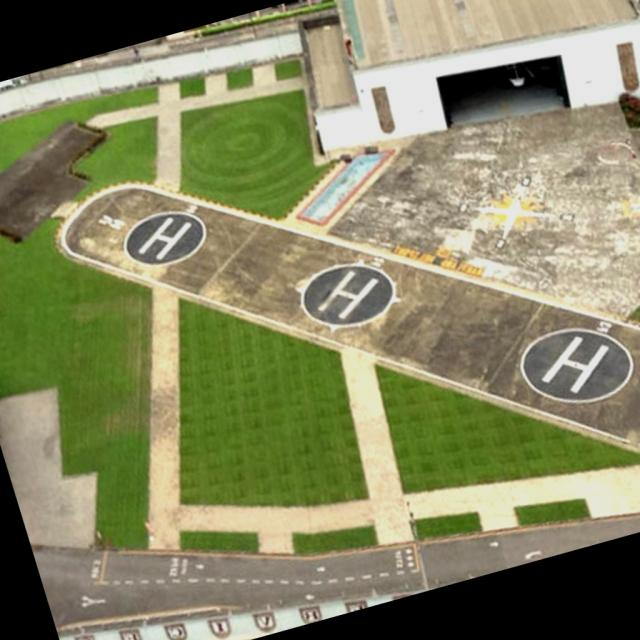helipad: (517, 324, 632, 404), (299, 259, 397, 329), (123, 205, 209, 269)
